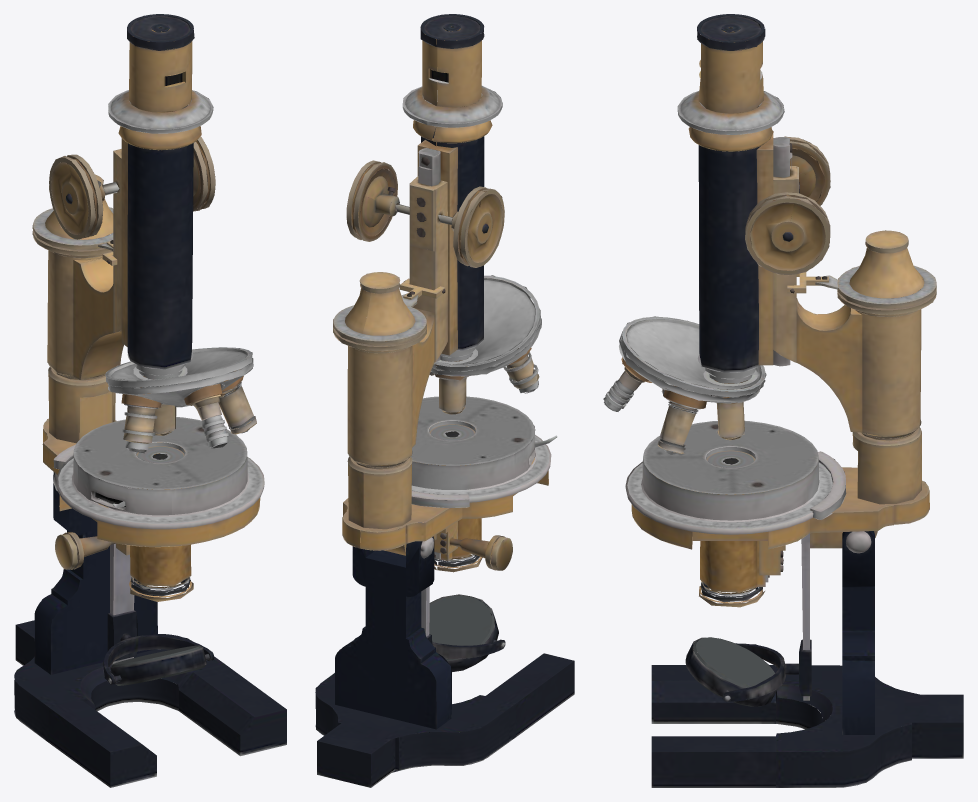
Rendered from distance.fbx.
The picture shows the model from 3 angles, left to right: view 1: azimuth 30°, elevation 25°; view 2: azimuth 150°, elevation 25°; view 3: azimuth 270°, elevation 25°; orthographic projection. The views are drawn at different scales.
Parts seen in each view (by area): view 1: vintage_microscope_rack_mount_support, vintage_microscope_eye_piece, vintage_microscope_base, vintage_microscope_revolver, vintage_microscope_adjustment, vintage_microscope_mirror_arm, vintage_microscope_condenser, vintage_microscope_mirror_base; view 2: vintage_microscope_rack_mount_support, vintage_microscope_base, vintage_microscope_eye_piece, vintage_microscope_adjustment, vintage_microscope_mirror_base, vintage_microscope_revolver, vintage_microscope_condenser, vintage_microscope_mirror_arm; view 3: vintage_microscope_rack_mount_support, vintage_microscope_base, vintage_microscope_eye_piece, vintage_microscope_adjustment, vintage_microscope_revolver, vintage_microscope_condenser, vintage_microscope_mirror_base, vintage_microscope_mirror_arm.
Boxes of the visible parts, left/top/right/bottom form: vintage_microscope_rack_mount_support: left=32, top=149, right=264, bottom=569; vintage_microscope_eye_piece: left=105, top=14, right=252, bottom=387; vintage_microscope_base: left=14, top=472, right=286, bottom=787; vintage_microscope_revolver: left=108, top=358, right=256, bottom=453; vintage_microscope_adjustment: left=49, top=136, right=215, bottom=239; vintage_microscope_mirror_arm: left=103, top=543, right=214, bottom=684; vintage_microscope_condenser: left=129, top=446, right=193, bottom=601; vintage_microscope_mirror_base: left=110, top=645, right=206, bottom=685; vintage_microscope_rack_mount_support: left=333, top=176, right=557, bottom=570; vintage_microscope_base: left=315, top=536, right=574, bottom=787; vintage_microscope_eye_piece: left=402, top=14, right=540, bottom=371; vintage_microscope_adjustment: left=346, top=160, right=504, bottom=267; vintage_microscope_mirror_base: left=429, top=594, right=498, bottom=671; vintage_microscope_revolver: left=429, top=306, right=541, bottom=414; vintage_microscope_condenser: left=429, top=424, right=482, bottom=572; vintage_microscope_mirror_arm: left=418, top=522, right=505, bottom=659; vintage_microscope_rack_mount_support: left=625, top=166, right=936, bottom=575; vintage_microscope_base: left=651, top=531, right=963, bottom=787; vintage_microscope_eye_piece: left=620, top=14, right=792, bottom=397; vintage_microscope_adjustment: left=745, top=136, right=830, bottom=275; vintage_microscope_revolver: left=603, top=330, right=765, bottom=454; vintage_microscope_condenser: left=699, top=450, right=769, bottom=607; vintage_microscope_mirror_base: left=685, top=637, right=777, bottom=706; vintage_microscope_mirror_arm: left=722, top=533, right=811, bottom=702.
Bounding box in the file's own units: 10.65 × 39.96 × 18.21.
